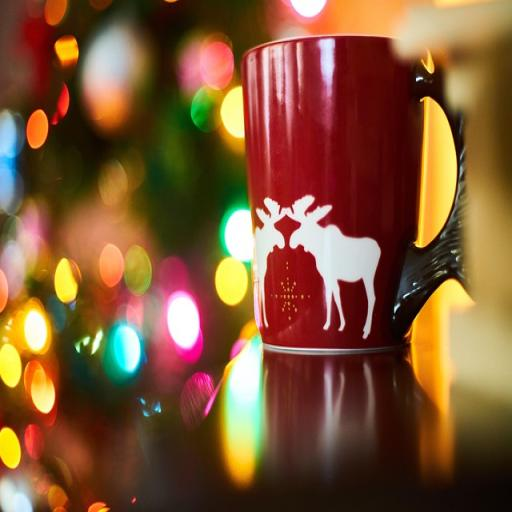phone: (241, 34, 465, 355)
